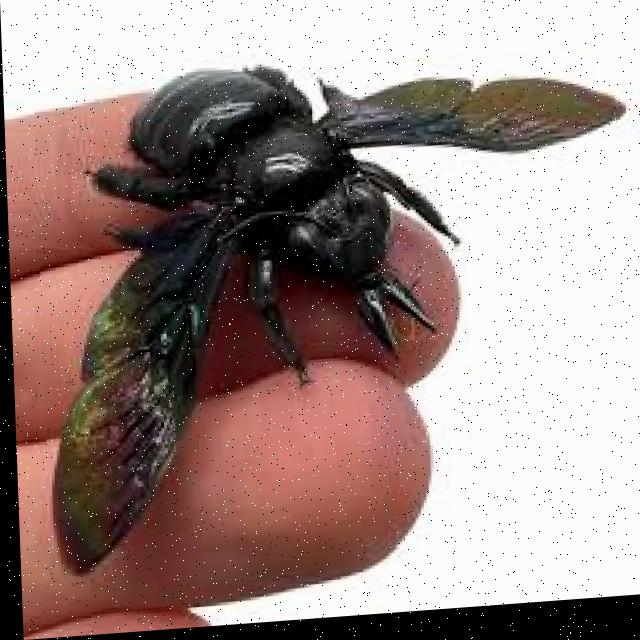Xylocopa: (32, 14, 627, 574)
